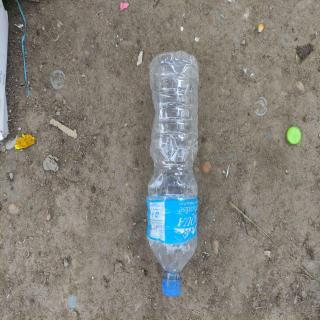Plastic-bottle: (146, 49, 201, 301)
